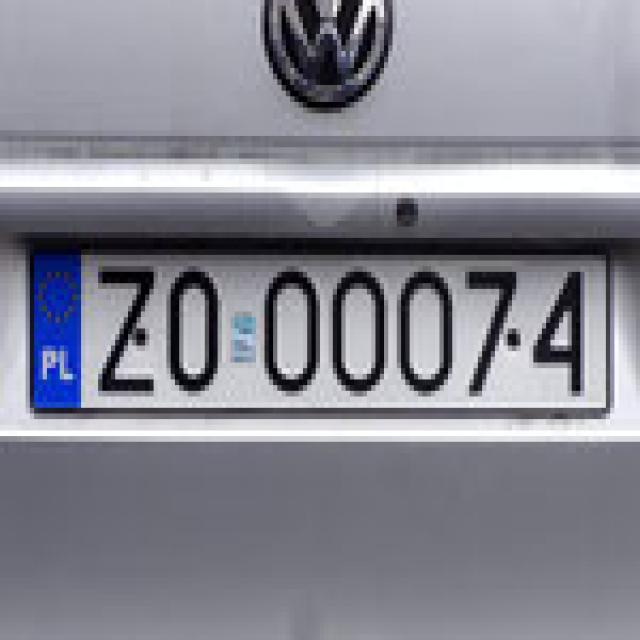pl_license_plate: (25, 238, 606, 402)
